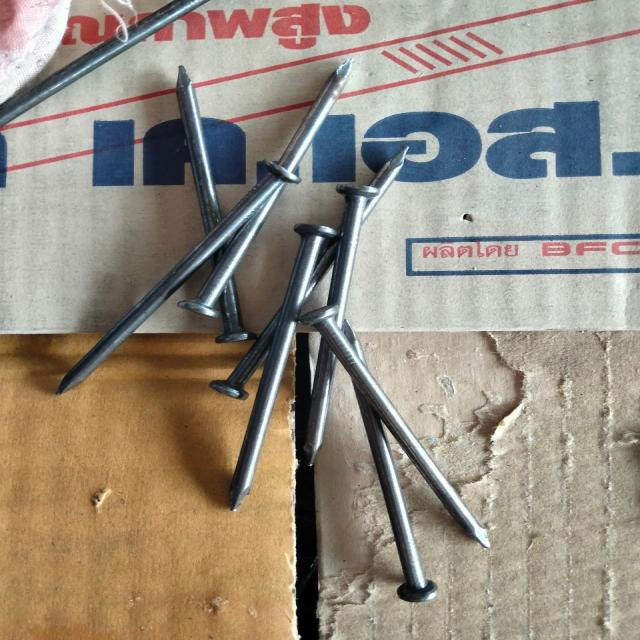3x8 nail: (33, 153, 320, 409), (185, 213, 388, 527)
